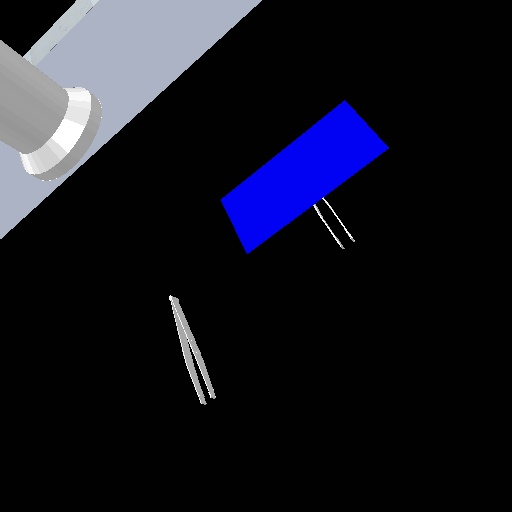pinza: (162, 289, 219, 407), (311, 195, 357, 251)
